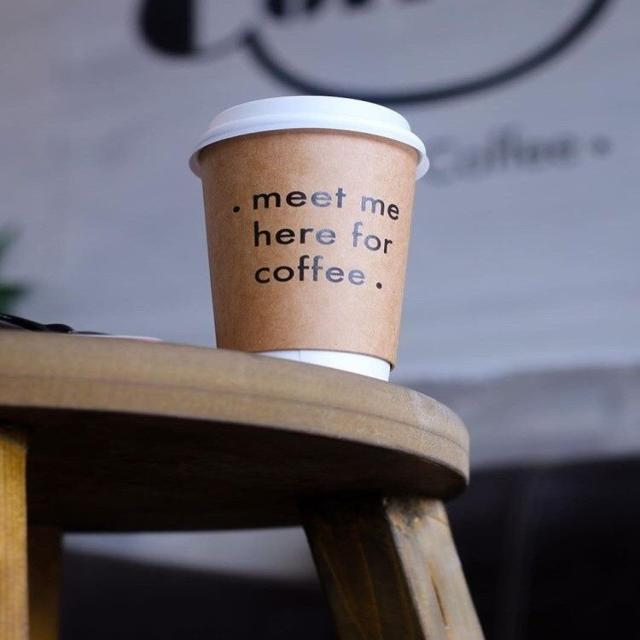paper cup: (188, 95, 430, 385)
